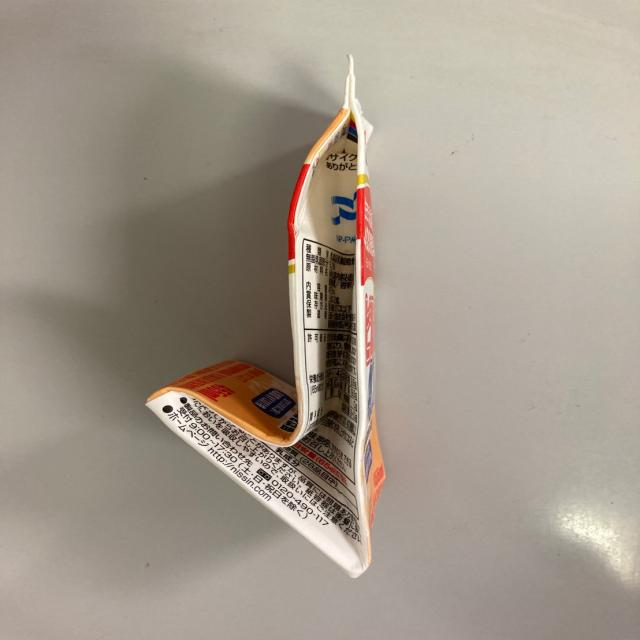Aluminium Foil: (124, 46, 380, 576)
